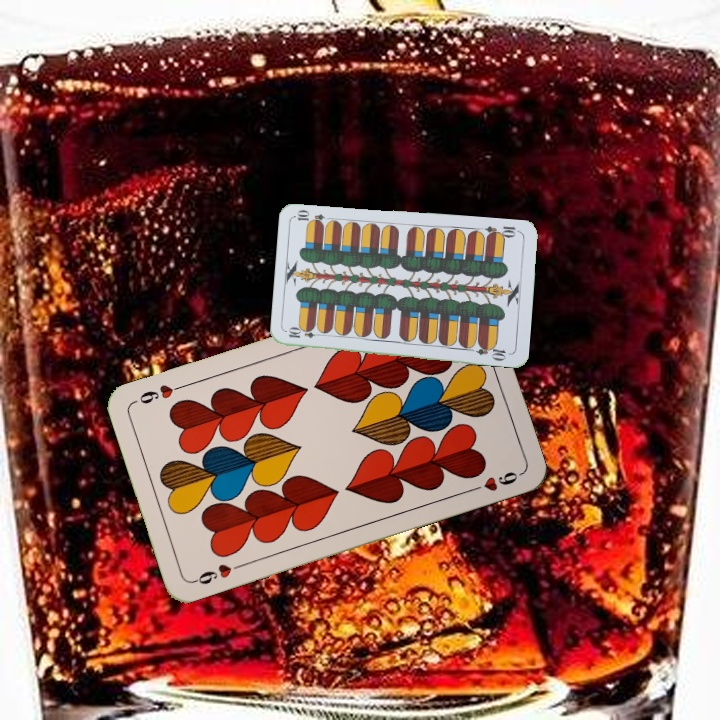E10: (482, 222, 522, 241), (284, 326, 325, 341)
H9: (189, 559, 246, 587)
